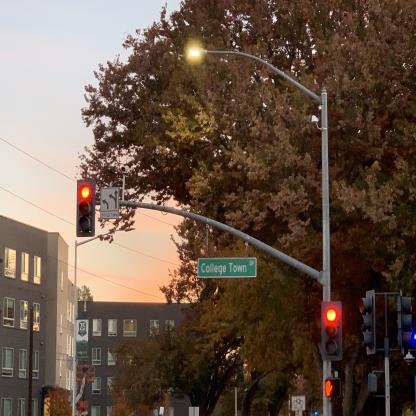left-red: (76, 178, 94, 237)
red: (322, 303, 342, 360)
